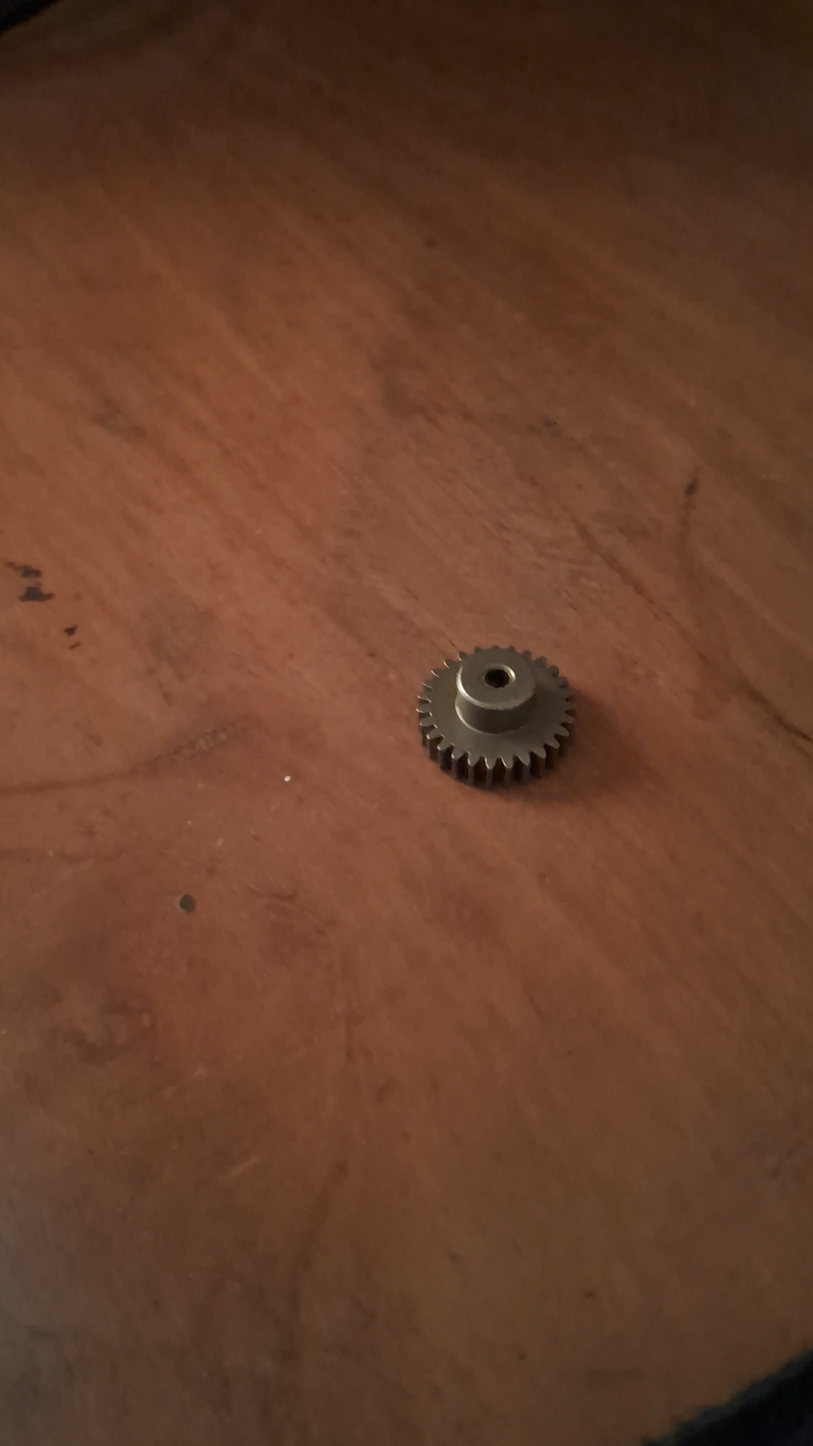spur gear: (417, 647, 573, 786)
